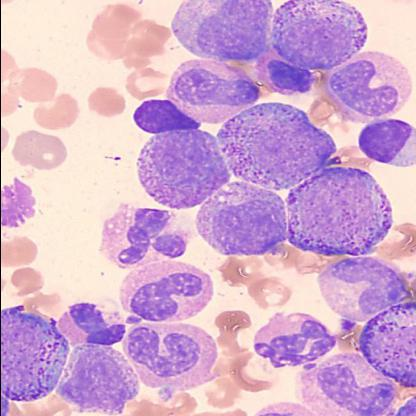Promyelocyte: (218, 101, 332, 189), (266, 1, 367, 70)
